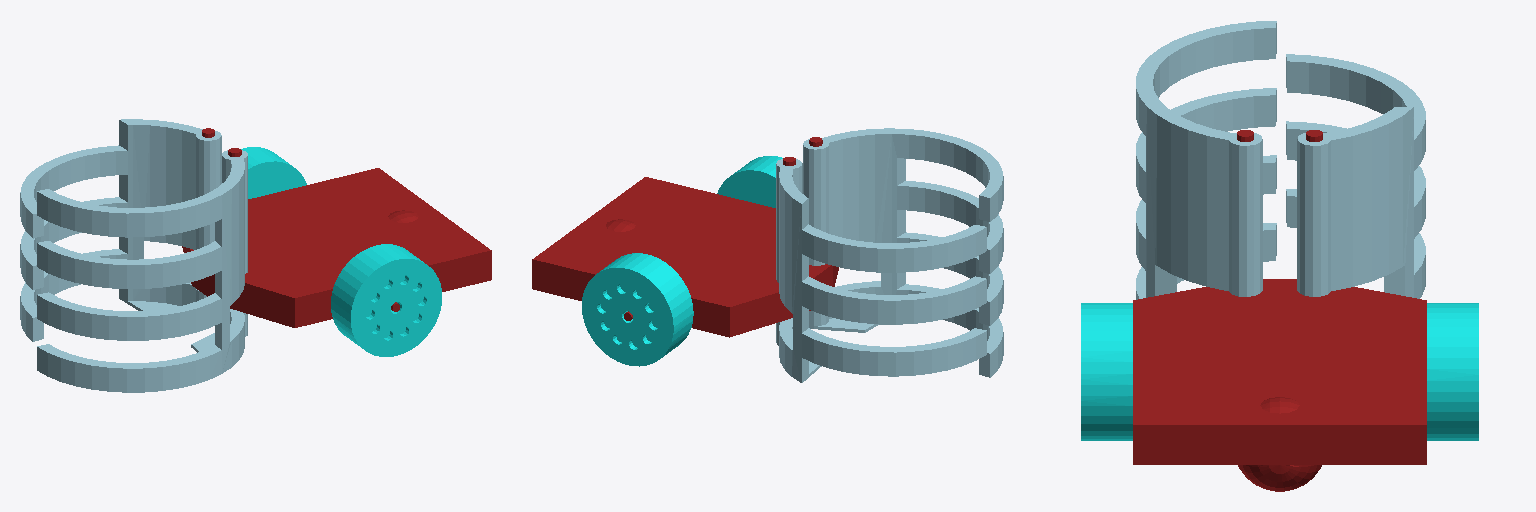
robot.urdf — pde4430_cw2_robot_new:
<?xml version="1.0" encoding="utf-8"?>
<robot name="pde4430_cw2_robot_new"> 

  <link name="chassy">
    <inertial>
      <origin xyz="0.156310093203508 -0.363188727209813 0.14499616506544" rpy="0 0 0" />
      <mass value="6.57018555863407"/>
      <inertia
        ixx="0.063799383817478"
        ixy="1.03487054913412E-17"
        ixz="0.00279957757397575"
        iyy="0.0854035984357382"
        iyz="-4.2581181594841E-18"
        izz="0.141835546879895" />
    </inertial>
    <visual>
      <origin xyz="0 0 0" rpy="0 0 0" />
      <geometry>
        <mesh filename="package://pde4430_cw2_robot_description/meshes/chassy.STL" />
      </geometry>
      <material name="">
        <color rgba="0.647 0.165 0.165 1" />
      </material>
    </visual>
    <collision>
      <origin xyz="0 0 0" rpy="0 0 0" />
      <geometry>
        <mesh filename="package://pde4430_cw2_robot_description/meshes/chassy.STL" />
      </geometry>
    </collision>
  </link>

  <link name="left_wheel">
    <inertial>
      <origin xyz="-5.21804821573824E-15 0.0295390266328485 -2.47024622979097E-15" rpy="0 0 0" />
      <mass value="1.16602182282338" />
      <inertia
        ixx="0.00224997851896062"
        ixy="1.51700484940178E-16"
        ixz="5.42101086242752E-20"
        iyy="0.00381517296203438"
        iyz="7.32725756481515E-17"
        izz="0.00224997851896062" />
    </inertial>
    <visual>
      <origin xyz="0 0 0" rpy="0 0 0" />
      <geometry>
        <mesh filename="package://pde4430_cw2_robot_description/meshes/left_wheel.STL" />
      </geometry>
      <material name="">
        <color rgba="0.149 0.933 0.929 1" />
      </material>
    </visual>
    <collision>
      <origin xyz="0 0 0" rpy="0 0 0" />
      <geometry>
        <!-- <cylinder length="0.04" radius="0.08"/> -->
        <mesh filename="package://pde4430_cw2_robot_description/meshes/left_wheel.STL" />
      </geometry>
    </collision>
  </link>

  <joint name="left_wheel_joint" type="continuous">
    <origin xyz="0.149280792728888 -0.533188727209813 0.142605370600387" rpy="3.14159265358979 -0.327303974077709 0" />
    <parent link="chassy" />
    <child link="left_wheel" />
    <axis xyz="0 1 0" />
  </joint>

  <link name="right_wheel">
    <inertial>
      <origin xyz="-5.02375918642883E-15 -0.0304609733671515 -2.45636844198316E-15" rpy="0 0 0" />
      <mass value="1.16602182282338" />
      <inertia
        ixx="0.00224997851896063"
        ixy="1.51624800598667E-16"
        ixz="3.79470760369927E-19"
        iyy="0.0038151729620344"
        iyz="7.32703087704615E-17"
        izz="0.00224997851896063" />
    </inertial>
    <visual>
      <origin xyz="0 0 0" rpy="0 0 0" />
      <geometry>
        <mesh filename="package://pde4430_cw2_robot_description/meshes/right_wheel.STL" />
      </geometry>
      <material name="">
        <color rgba="0.149 0.933 0.929 1" />
      </material>
    </visual>
    <collision>
      <origin xyz="0 0 0" rpy="0 0 0" />
      <geometry>
        <!-- <cylinder length="0.04" radius="0.08"/> -->
        <mesh filename="package://pde4430_cw2_robot_description/meshes/right_wheel.STL" />
      </geometry>
    </collision>
  </link>

  <joint name="right_wheel_joint" type="continuous">
    <origin xyz="0.149280792728888 -0.133188727209813 0.142605370600387" rpy="-3.14159265358979 0.393094810426521 -3.14159265358979" />
    <parent link="chassy" />
    <child link="right_wheel" />
    <axis xyz="0 -1 0" />
  </joint>

  <link name="right_gripper">
    <inertial>
      <origin xyz="-0.116159368597421 0.15387551741621 -0.0694598084327985" rpy="0 0 0" />
      <mass value="1.61587084761863" />
      <inertia
        ixx="0.0142352513490855"
        ixy="-0.000838334319165038"
        ixz="-0.00203771100584054"
        iyy="0.022691314466943"
        iyz="-0.000137567477815809"
        izz="0.0302284196163977" />
    </inertial>
    <visual>
      <origin xyz="0 0 0" rpy="0 0 0" />
      <geometry>
        <mesh filename="package://pde4430_cw2_robot_description/meshes/right_gripper.STL" />
      </geometry>
      <material name="">
        <color rgba="0.678 0.847 0.902 1" />
      </material> 
    </visual>
    <collision>
      <origin xyz="0 0 0" rpy="0 0 0" />
      <geometry>
        <mesh filename="package://pde4430_cw2_robot_description/meshes/right_gripper.STL" />
      </geometry>
    </collision>
  </link>

  <joint name="right_gripper_joint" type="revolute">
    <origin xyz="-0.021917 -0.32319 0.062605" rpy="1.5708 0 0.07063" />
    <parent link="chassy" />
    <child link="right_gripper" />
    <axis xyz="0 1 0" />
    <limit lower="-0.78" upper="0.61" effort="10" velocity="5" />
  </joint>

  <link name="left_gripper">
    <inertial>
      <origin xyz="-0.129875210051789 0.153218916331966 0.0723549039504964" rpy="0 0 0" />
      <mass value="1.86518207129963" />
      <inertia
        ixx="0.020345693535521"
        ixy="-0.000945510032094421"
        ixz="0.00189087832371278"
        iyy="0.0268595354624139"
        iyz="0.000159653946953313"
        izz="0.0394264320820596" />
    </inertial>
    <visual>
      <origin xyz="0 0 0" rpy="0 0 0" />
      <geometry>
        <mesh filename="package://pde4430_cw2_robot_description/meshes/left_gripper.STL" />
      </geometry>
      <material name="">
        <color rgba="0.678 0.847 0.902 1" />
      </material>
    </visual>
    <collision>
      <origin xyz="0 0 0" rpy="0 0 0" />
      <geometry>
        <mesh filename="package://pde4430_cw2_robot_description/meshes/left_gripper.STL" />
      </geometry>
    </collision>
  </link>

  <joint name="left_gripper_joint" type="revolute">
    <origin xyz="-0.021917 -0.40319 0.062605" rpy="1.5708 0 -0.081634" />
    <parent link="chassy" />
    <child link="left_gripper" />
    <axis xyz="0 1 0" />
    <limit lower="-0.78" upper="0.61" effort="10" velocity="5" />
    <mimic joint="right_gripper_joint" multiplier="-1" offset="0" />
  </joint>

  <transmission name="left_wheel_trans">
    <type>transmission_interface/SimpleTransmission</type>
    <joint name="left_wheel_joint">
      <hardwareInterface>hardware_interface/VelocityJointInterface</hardwareInterface>
    </joint>
    <actuator name="left_wheel_motor">
      <hardwareInterface>hardware_interface/VelocityJointInterface</hardwareInterface>
    </actuator>
  </transmission>

  <transmission name="right_wheel_trans">
    <type>transmission_interface/SimpleTransmission</type>
    <joint name="right_wheel_joint">
      <hardwareInterface>hardware_interface/VelocityJointInterface</hardwareInterface>
    </joint>
    <actuator name="right_wheel_motor">
      <hardwareInterface>hardware_interface/VelocityJointInterface</hardwareInterface>
    </actuator>
  </transmission>

  <transmission name="left_gripper_trans">
    <type>transmission_interface/SimpleTransmission</type>
    <joint name="left_gripper_joint">
      <hardwareInterface>hardware_interface/PositionJointInterface</hardwareInterface> 
    </joint>
    <actuator name="left_gripper_motor">
      <hardwareInterface>hardware_interface/PositionJointInterface</hardwareInterface> 
    </actuator>
  </transmission>

  <transmission name="right_gripper_trans">
    <type>transmission_interface/SimpleTransmission</type>
    <joint name="right_gripper_joint">
      <hardwareInterface>hardware_interface/PositionJointInterface</hardwareInterface> 
    </joint>
    <actuator name="right_gripper_motor">
      <hardwareInterface>hardware_interface/PositionJointInterface</hardwareInterface> 
    </actuator>
  </transmission>

  
  <gazebo>
    <!-- <plugin name="diff_drive" filename="libgazebo_ros_diff_drive.so">
      <robotNamespace>/</robotNamespace>
      <commandTopic>cmd_vel</commandTopic>
      <odometryTopic>odom</odometryTopic>
      <odometryFrame>odom</odometryFrame>
      <robotBaseFrame>chassy</robotBaseFrame> 
      <leftJoint>left_wheel_joint</leftJoint>
      <rightJoint>right_wheel_joint</rightJoint>
      <wheelSeparation>0.34</wheelSeparation>
      <wheelRadius>0.08</wheelRadius>
      <updateRate>50</updateRate>
      <rosDebugLevel>info</rosDebugLevel>
      <publishWheelTF>false</publishWheelTF>
      <publishOdomTF>true</publishOdomTF>
      <publishWheelJointState>false</publishWheelJointState>
      <wheelDiameter>0.16</wheelDiameter>
      <wheelAcceleration>0</wheelAcceleration>
      <wheelTorque>5</wheelTorque>
      <odometrySource>1</odometrySource>
      <publishTf>true</publishTf> 
      <legacyMode>true</legacyMode>
      <allow_multiple_cmd_vel_publishers></allow_multiple_cmd_vel_publishers>
    </plugin> -->
 
    <!-- This is a testing code  -->
    <plugin name="gazebo_ros_control" filename="libgazebo_ros_control.so">
      <robotNamespace>/</robotNamespace>
    </plugin>

    
  </gazebo>



</robot>

--- What the picture shows (computed from the rendered views, not written in the file) ---
Views: 3 orthographic renders of the robot side by side, from view 1: azimuth 30°, elevation 25°; view 2: azimuth 150°, elevation 25°; view 3: azimuth 270°, elevation 25°.
Model pde4430_cw2_robot_new with 5 links and 4 joints (2 revolute, 2 continuous), rooted at chassy, posed all joints at 0.
Visible links, largest first — view 1: left_gripper, chassy, right_gripper, left_wheel, right_wheel; view 2: chassy, right_gripper, left_gripper, right_wheel, left_wheel; view 3: chassy, left_gripper, right_gripper, left_wheel, right_wheel.
Boxes of the visible links, left/top/right/bottom form: left_gripper: left=37, top=150, right=247, bottom=392; chassy: left=182, top=128, right=491, bottom=327; right_gripper: left=20, top=119, right=221, bottom=341; left_wheel: left=331, top=244, right=441, bottom=356; right_wheel: left=241, top=147, right=306, bottom=198; chassy: left=532, top=137, right=838, bottom=337; right_gripper: left=776, top=159, right=986, bottom=382; left_gripper: left=803, top=128, right=1003, bottom=377; right_wheel: left=582, top=253, right=693, bottom=366; left_wheel: left=717, top=156, right=782, bottom=207; chassy: left=1133, top=130, right=1426, bottom=491; left_gripper: left=1136, top=21, right=1276, bottom=299; right_gripper: left=1286, top=54, right=1425, bottom=298; left_wheel: left=1081, top=303, right=1132, bottom=440; right_wheel: left=1427, top=303, right=1478, bottom=440.
Bounding box of the posed robot: 0.6954 × 0.46 × 0.305 m (x, y, z).
5 mesh visuals loaded from 5 distinct referenced files (5 binary STL).